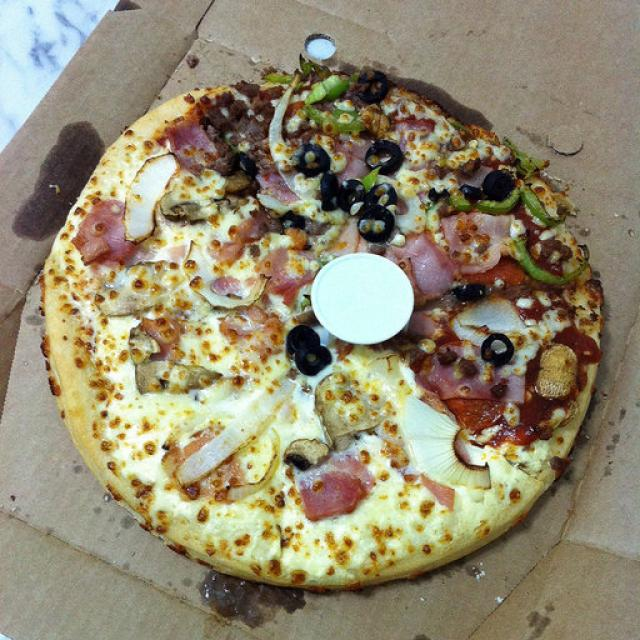Green Pepper: (515, 244, 584, 284), (514, 187, 568, 230), (304, 101, 362, 133), (302, 75, 347, 104), (464, 196, 518, 216)
Ham: (70, 202, 150, 262), (292, 451, 370, 511), (412, 350, 502, 397), (162, 109, 218, 170), (406, 236, 460, 292), (220, 99, 270, 146), (417, 469, 454, 506), (393, 110, 438, 140), (405, 311, 440, 334)
Mushrooms: (136, 345, 222, 393), (90, 273, 162, 312), (538, 343, 584, 403), (157, 190, 229, 223), (122, 322, 163, 366), (282, 430, 323, 468)
Olives: (280, 327, 327, 370), (324, 172, 364, 206), (355, 209, 394, 240), (368, 140, 404, 172), (362, 76, 391, 108), (231, 150, 253, 192), (290, 142, 322, 170), (480, 171, 510, 196), (367, 184, 397, 208), (482, 332, 512, 356), (425, 183, 452, 202), (462, 183, 482, 202)
Onions: (179, 384, 296, 488), (402, 401, 495, 488), (123, 153, 178, 244), (187, 271, 273, 322), (154, 238, 192, 266)
Pizza: (40, 60, 602, 589)
